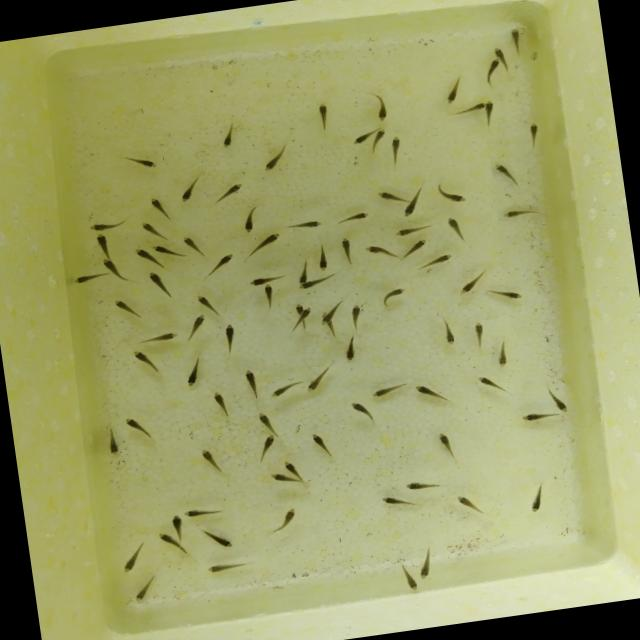fingerling: (136, 238, 181, 270), (243, 228, 285, 260), (128, 570, 164, 606), (194, 524, 235, 554), (121, 411, 157, 444), (266, 505, 302, 534), (497, 202, 544, 224), (414, 250, 457, 274), (132, 348, 164, 380), (454, 491, 489, 520), (209, 180, 248, 206), (284, 214, 330, 236), (414, 542, 439, 582), (257, 144, 289, 175), (182, 312, 212, 345), (378, 491, 421, 514), (524, 479, 550, 516), (119, 543, 148, 576), (210, 388, 238, 422), (120, 152, 162, 174), (330, 208, 376, 228), (86, 214, 132, 234), (453, 270, 488, 296), (146, 269, 176, 299), (362, 240, 399, 264), (270, 378, 310, 400), (402, 474, 446, 494), (478, 372, 509, 400), (306, 362, 337, 390), (181, 355, 208, 387), (183, 502, 230, 520), (412, 380, 444, 406), (396, 562, 422, 594), (442, 74, 468, 106), (202, 559, 250, 576), (239, 200, 263, 234), (346, 300, 370, 334), (548, 386, 574, 416), (496, 160, 522, 190), (113, 296, 145, 320), (200, 445, 227, 473), (140, 328, 182, 346), (517, 408, 559, 426), (254, 433, 280, 462), (490, 283, 524, 305), (378, 286, 409, 310), (369, 379, 408, 398), (393, 221, 434, 239), (337, 236, 360, 268), (443, 215, 465, 248), (204, 254, 234, 278), (220, 322, 241, 356), (178, 230, 204, 257), (310, 430, 333, 460), (350, 399, 377, 424), (371, 92, 392, 124), (148, 193, 172, 221), (387, 133, 408, 165), (436, 182, 466, 204), (400, 237, 430, 259), (104, 424, 124, 457), (256, 409, 280, 436), (176, 179, 201, 204), (138, 218, 166, 240), (250, 270, 288, 286), (493, 340, 513, 370), (449, 100, 486, 116), (374, 187, 405, 206), (194, 290, 218, 314), (483, 57, 503, 85), (434, 430, 454, 458), (244, 368, 264, 396), (316, 238, 332, 272), (72, 271, 104, 288), (316, 101, 334, 131), (293, 257, 313, 284), (468, 320, 486, 350), (508, 26, 526, 55), (217, 124, 237, 150), (260, 286, 278, 314), (526, 120, 544, 148), (342, 336, 361, 362), (441, 317, 458, 346), (94, 231, 112, 258), (154, 529, 178, 549), (400, 202, 423, 221), (170, 511, 186, 535), (102, 256, 121, 276), (268, 470, 290, 487), (484, 100, 497, 127), (350, 133, 369, 147), (296, 280, 316, 292), (372, 128, 388, 143), (319, 313, 337, 326), (284, 460, 298, 476), (299, 306, 315, 320), (492, 45, 506, 58)
